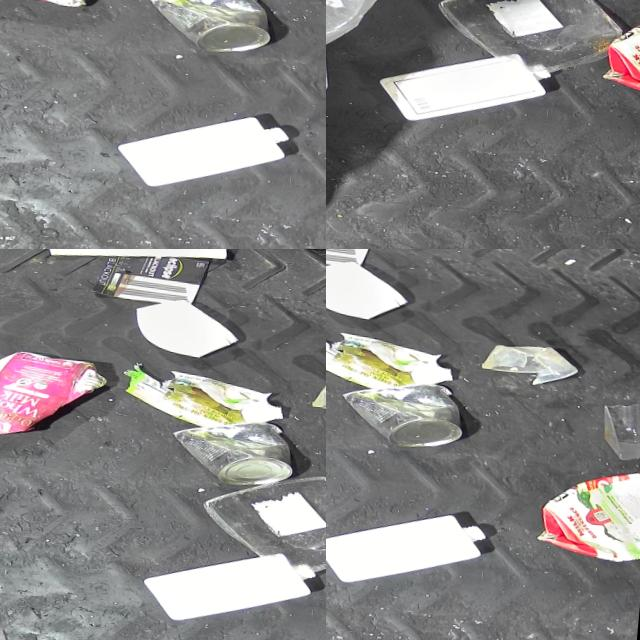can: (131, 0, 293, 72), (167, 412, 295, 488), (337, 374, 465, 450)
milk_jug: (376, 38, 556, 132), (141, 538, 321, 632), (326, 501, 491, 593)
non_white_jug: (527, 454, 640, 562), (592, 0, 640, 100)
